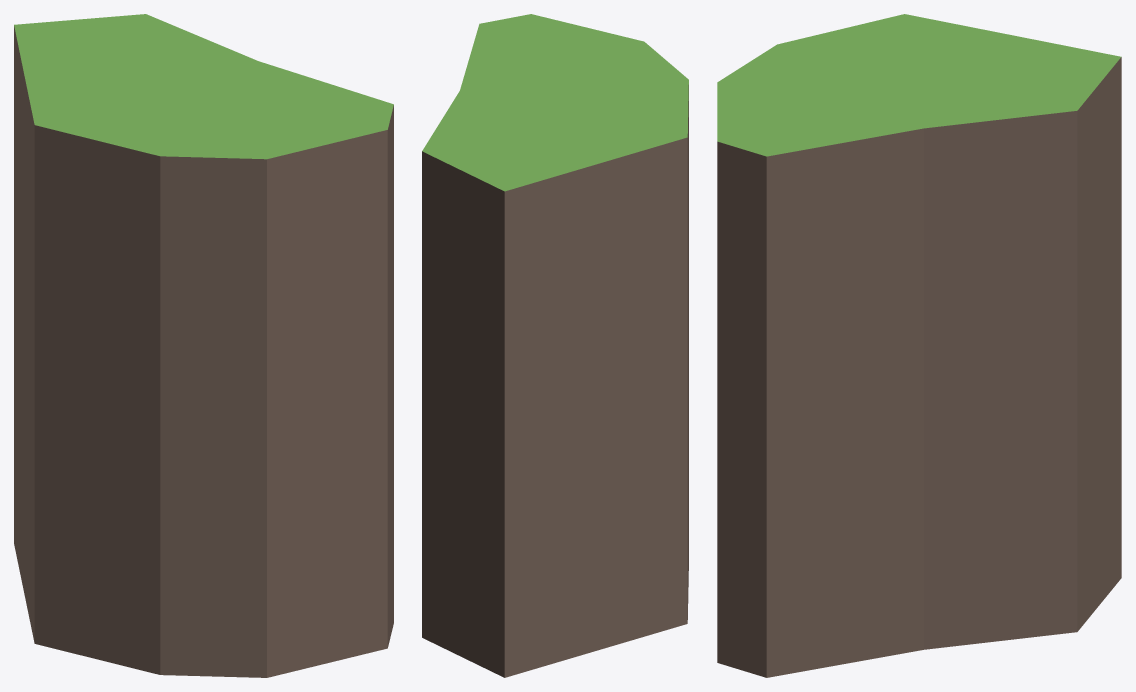
File: Cliff03.fbx
The picture shows the model from 3 angles, left to right: view 1: azimuth 30°, elevation 25°; view 2: azimuth 150°, elevation 25°; view 3: azimuth 270°, elevation 25°; orthographic projection. The views are drawn at different scales.
Visible parts, largest first — view 1: Cliff; view 2: Cliff; view 3: Cliff.
Boxes of the visible parts, x1,y1,x2,y2 form: Cliff: (14, 14, 393, 677); Cliff: (422, 14, 688, 677); Cliff: (717, 14, 1121, 677).
Bounding box in the file's own units: 0.5903 × 1.01 × 0.7069.
